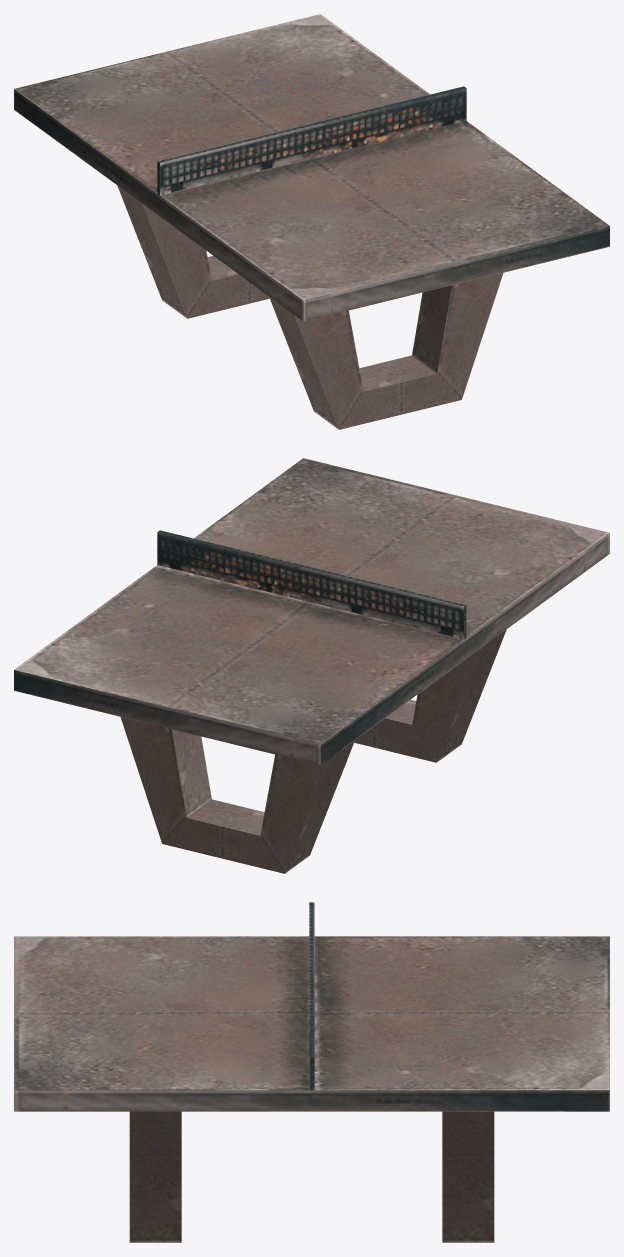
File: TableTennisTable01.obj
3 renders of one model, top to bottom at view 1: azimuth 30°, elevation 25°; view 2: azimuth 150°, elevation 25°; view 3: azimuth 270°, elevation 25°, orthographic. The views are drawn at different scales.
Visible parts, largest first — view 1: TableTennisTable01; view 2: TableTennisTable01; view 3: TableTennisTable01.
Boxes of the visible parts, x1,y1,x2,y2 form: TableTennisTable01: [14, 14, 609, 429]; TableTennisTable01: [14, 458, 609, 873]; TableTennisTable01: [14, 902, 609, 1242].
Bounding box in the file's own units: 1.4 × 0.984 × 2.29.
